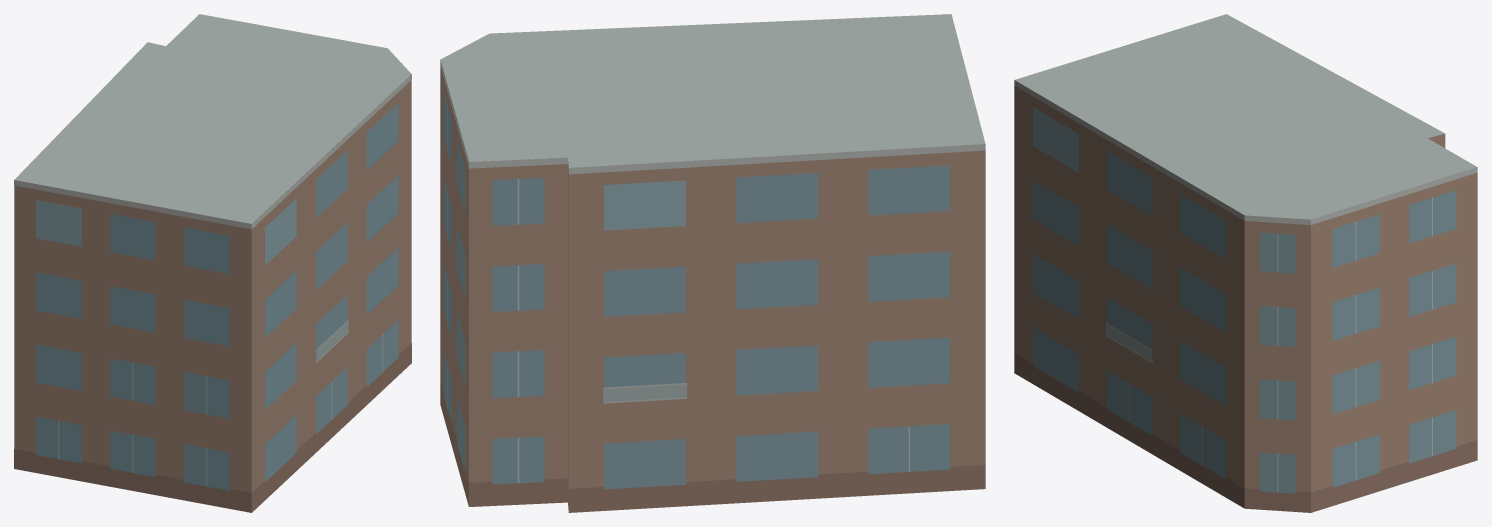
File: survey-upis-32526481.glb
The picture shows the model from 3 angles, left to right: view 1: azimuth 30°, elevation 25°; view 2: azimuth 150°, elevation 25°; view 3: azimuth 270°, elevation 25°; orthographic projection. The views are drawn at different scales.
Parts seen in each view (by area): view 1: survey-upis-32526481.tmp; view 2: survey-upis-32526481.tmp; view 3: survey-upis-32526481.tmp.
Boxes of the visible parts, bbox=[...] form: survey-upis-32526481.tmp: bbox=[14, 14, 411, 512]; survey-upis-32526481.tmp: bbox=[440, 14, 985, 512]; survey-upis-32526481.tmp: bbox=[1014, 14, 1477, 512].
Size of the model in its own units: 19.56 by 13 by 18.62.
